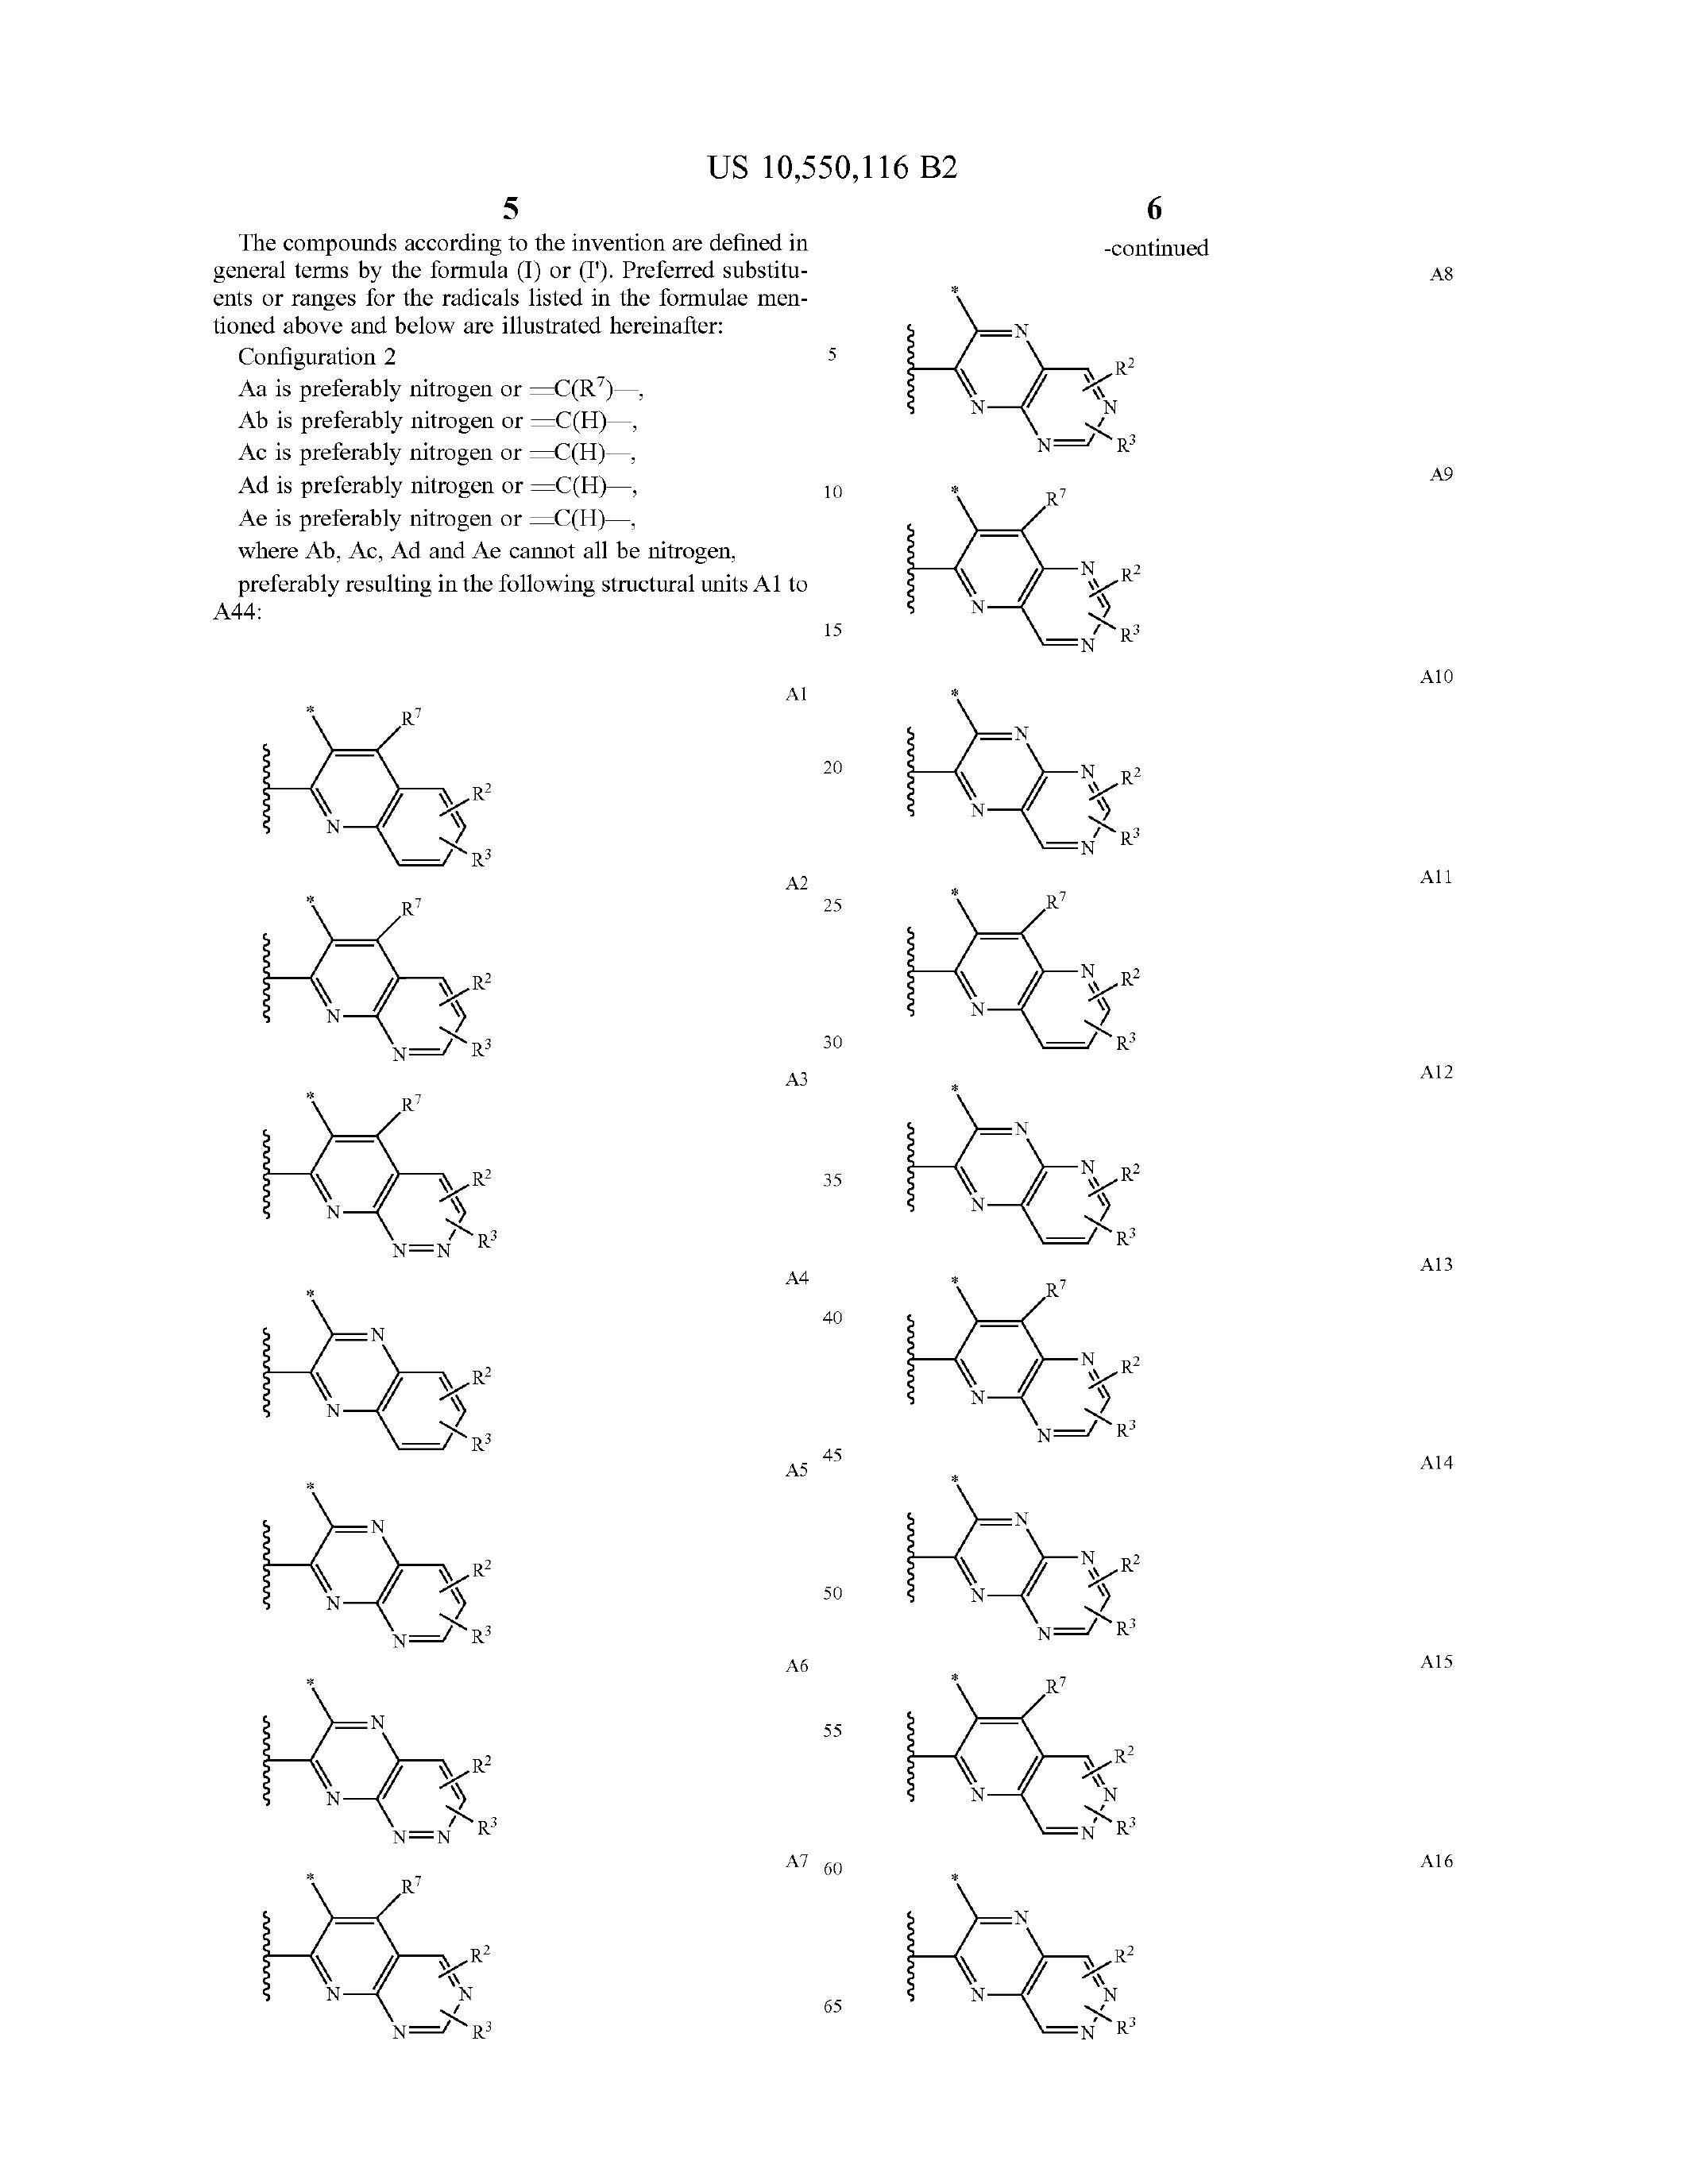intermediates: (176, 1636, 541, 2085)
